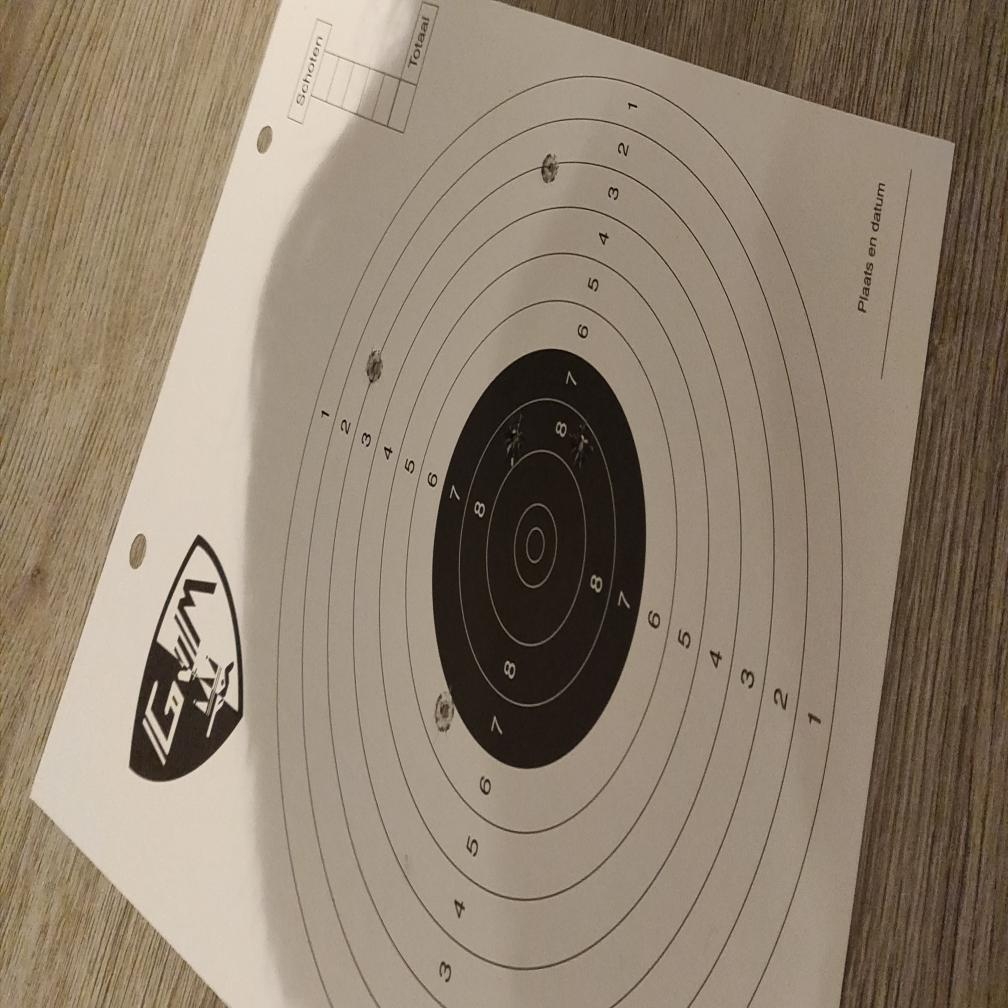3: (363, 344, 384, 386), (540, 150, 560, 187)
6: (432, 686, 456, 736)
8: (569, 416, 594, 469), (503, 415, 525, 468)
Target: (280, 72, 844, 1008)
black_contour: (432, 348, 647, 766)
